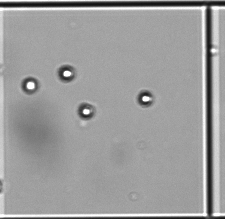Living Cell: (57, 65, 77, 83), (77, 102, 96, 120), (22, 77, 40, 95), (137, 90, 154, 108)
